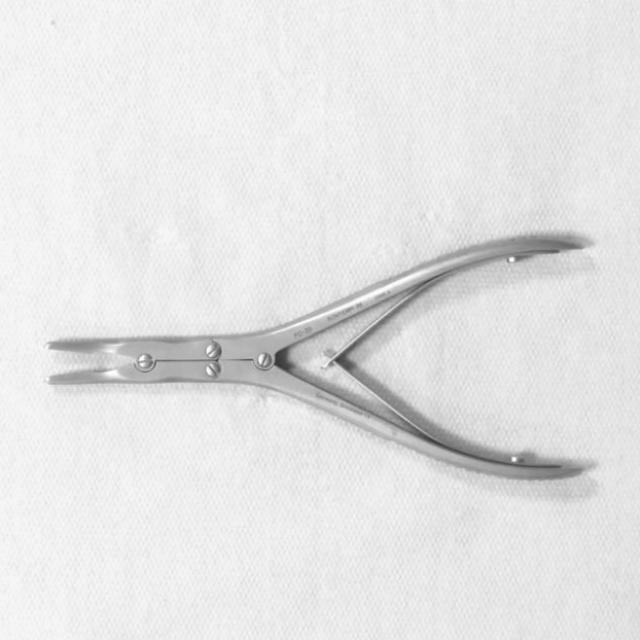gubia: (47, 233, 599, 482)
